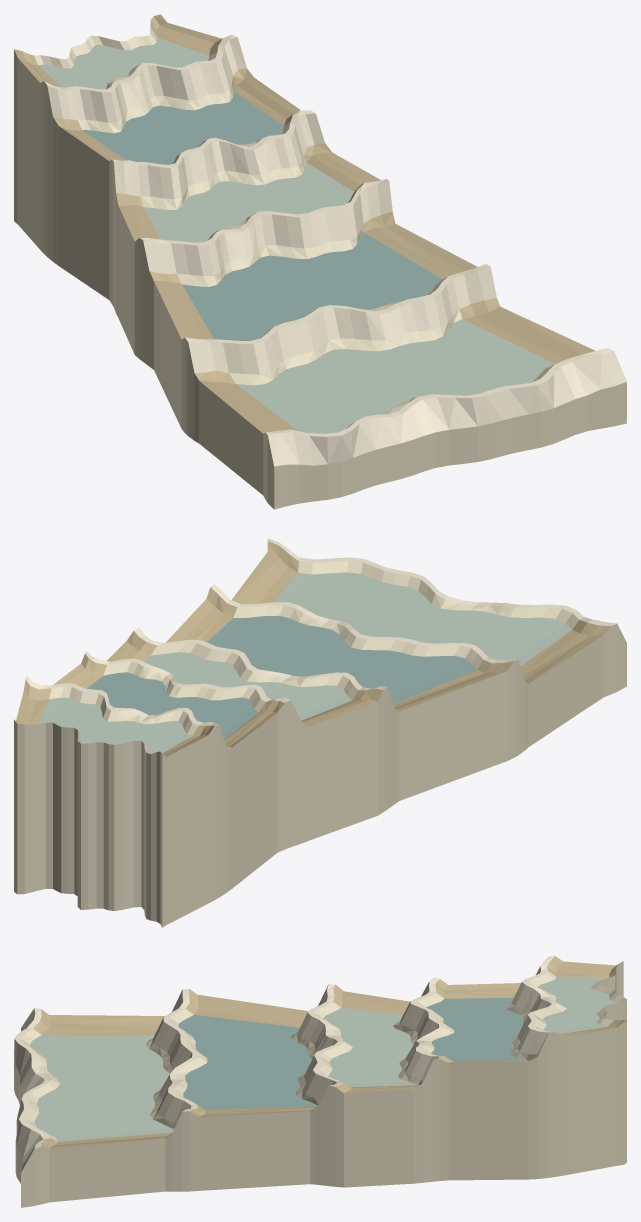
The model's file is travertine-terrace-pools.glb.
3 renders of one model, top to bottom at view 1: azimuth 30°, elevation 25°; view 2: azimuth 150°, elevation 25°; view 3: azimuth 270°, elevation 25°, orthographic. The views are drawn at different scales.
Visible parts, largest first — view 1: continuous-carbonate-shelf-slope; view 2: continuous-carbonate-shelf-slope; view 3: continuous-carbonate-shelf-slope.
Part boxes in pixels (bbox=[...]): continuous-carbonate-shelf-slope: bbox=[14, 14, 626, 509]; continuous-carbonate-shelf-slope: bbox=[14, 538, 626, 927]; continuous-carbonate-shelf-slope: bbox=[14, 956, 626, 1207].
Size of the model in its own units: 10 by 4.7 by 18.
